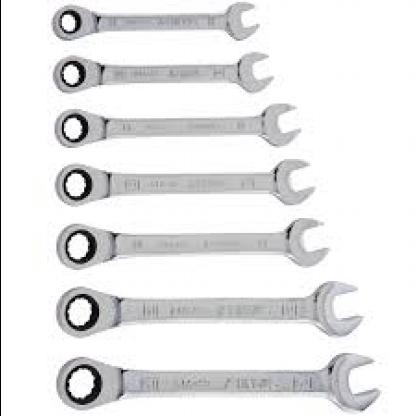Wrench: (48, 343, 386, 416), (51, 275, 369, 343), (52, 210, 338, 278), (48, 152, 322, 216), (46, 96, 308, 158), (46, 44, 282, 102), (44, 0, 266, 46)
